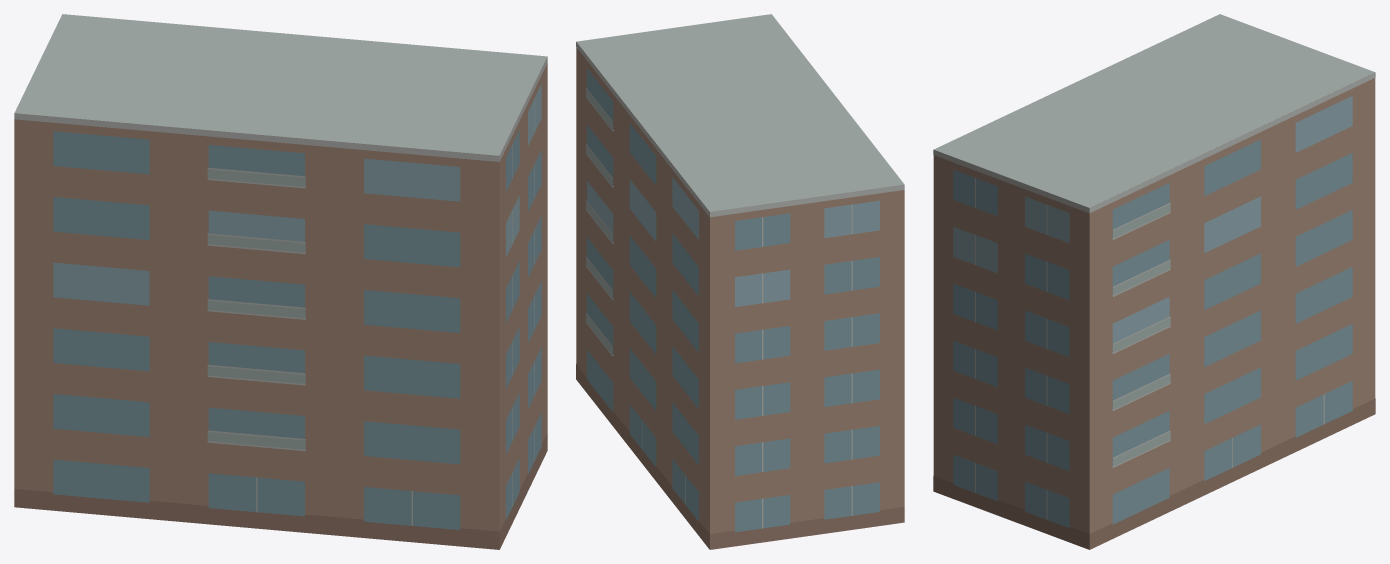
The model's file is survey-upis-32523594.glb.
3 views of the same model, side by side, from view 1: azimuth 30°, elevation 25°; view 2: azimuth 150°, elevation 25°; view 3: azimuth 270°, elevation 25° (orthographic). The views are drawn at different scales.
Parts seen in each view (by area): view 1: survey-upis-32523594.tmp; view 2: survey-upis-32523594.tmp; view 3: survey-upis-32523594.tmp.
Boxes of the visible parts, x1=… form: survey-upis-32523594.tmp: x1=14, y1=14, x2=547, y2=549; survey-upis-32523594.tmp: x1=576, y1=14, x2=904, y2=549; survey-upis-32523594.tmp: x1=933, y1=14, x2=1375, y2=549.
Bounding box in the file's own units: 18.99 × 15.6 × 18.28.
